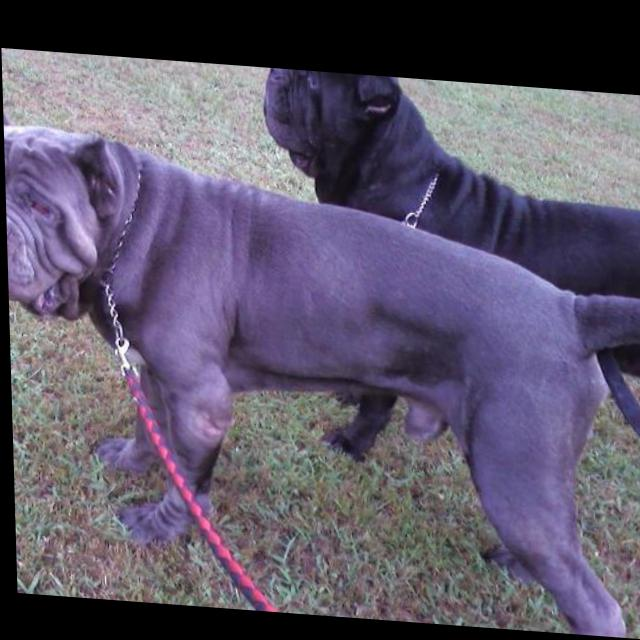mastino_napoletano: (3, 101, 640, 631), (263, 63, 640, 477)
